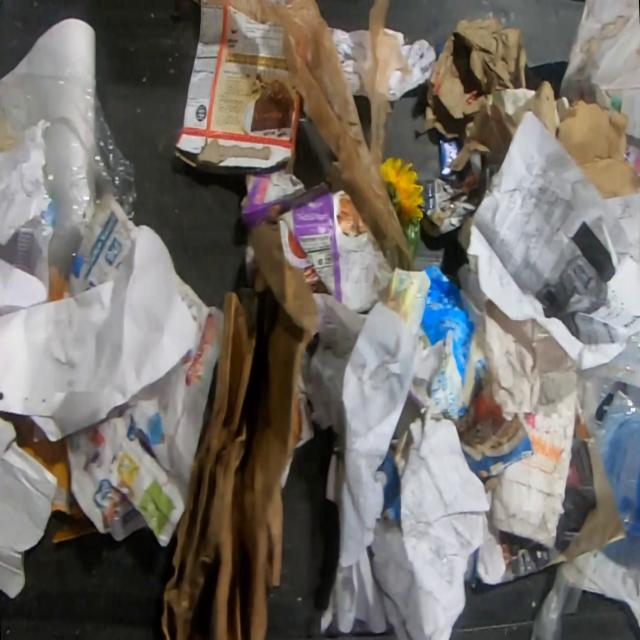cardboard: (160, 223, 317, 640), (424, 17, 640, 199), (174, 0, 302, 177), (239, 170, 393, 311), (373, 263, 486, 421), (489, 367, 576, 550), (0, 416, 58, 602), (408, 383, 426, 408)
soft_plastic: (212, 0, 417, 269), (0, 72, 137, 290), (580, 323, 640, 444), (598, 383, 640, 540)
